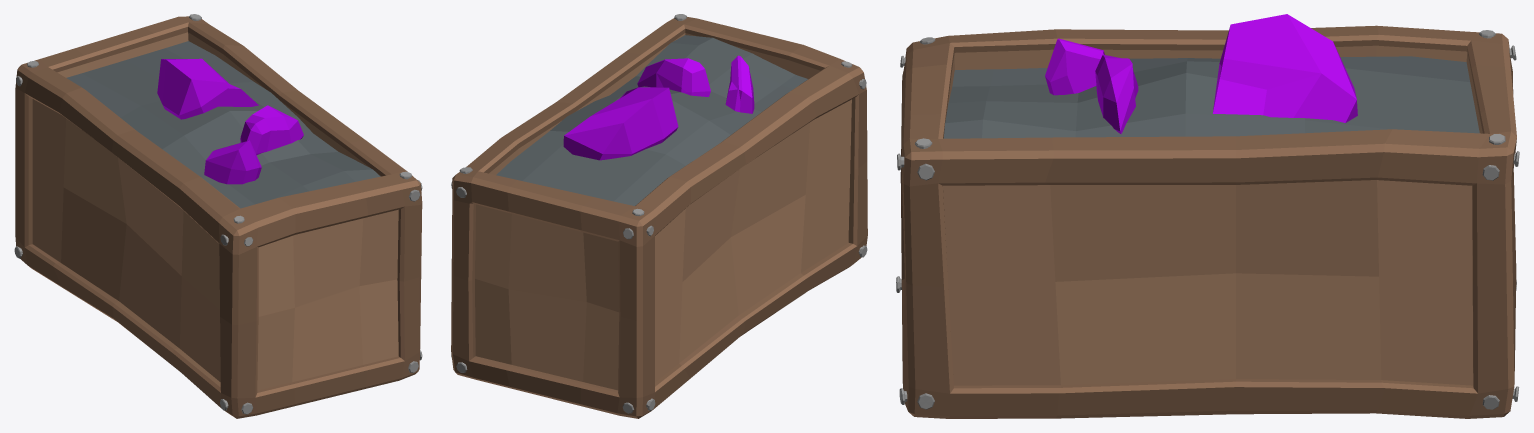
File: Crate_Long_Purple.fbx
3 renders of one model, left to right at view 1: azimuth 30°, elevation 25°; view 2: azimuth 150°, elevation 25°; view 3: azimuth 270°, elevation 25°, orthographic. The views are drawn at different scales.
Visible parts, largest first — view 1: Crate_Long_Purple, Purple; view 2: Crate_Long_Purple, Purple; view 3: Crate_Long_Purple, Purple.
Part boxes in pixels (<box>): Crate_Long_Purple: <box>14,14,422,418</box>; Purple: <box>157,58,303,184</box>; Crate_Long_Purple: <box>451,14,867,418</box>; Purple: <box>563,55,754,160</box>; Crate_Long_Purple: <box>896,25,1519,418</box>; Purple: <box>1045,14,1357,133</box>.
Size of the model in its own units: 71.1 by 83.68 by 142.
